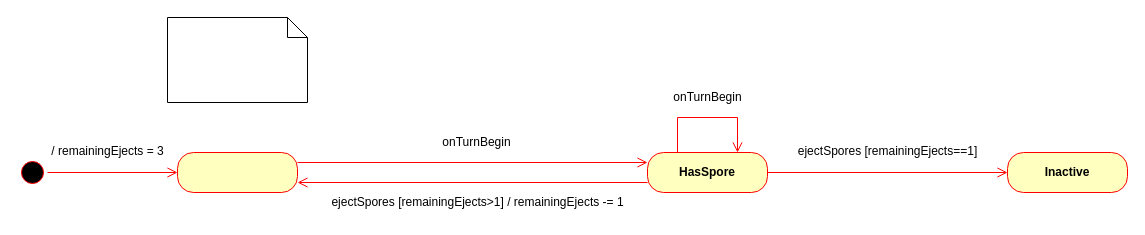
The diagram is 1145 pixels wide and 235 high, and some of its shapes have lost their labels. Each missing label, with the centre of its shape:
A gomba minden kör elején termel spórát: point 237,59
HasNoSpore: point 237,172
